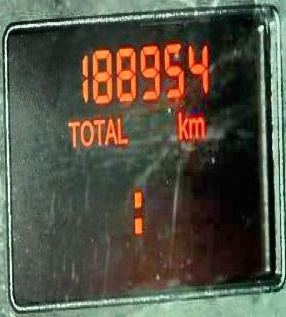1: (79, 51, 88, 105)
4: (186, 42, 208, 93)
5: (162, 41, 184, 97)
8: (115, 45, 136, 102), (91, 47, 112, 103)
9: (139, 44, 160, 99)
X: (131, 189, 143, 235), (79, 118, 93, 146), (103, 117, 116, 146), (189, 114, 205, 137), (92, 117, 105, 145), (176, 109, 188, 139), (67, 118, 79, 148), (116, 115, 127, 143)
